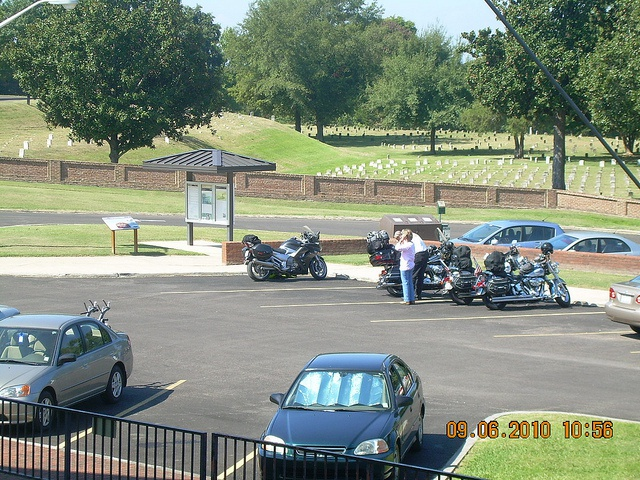non-vehicle: (365, 229, 460, 297), (241, 229, 327, 281), (485, 260, 571, 309), (439, 264, 498, 305)
